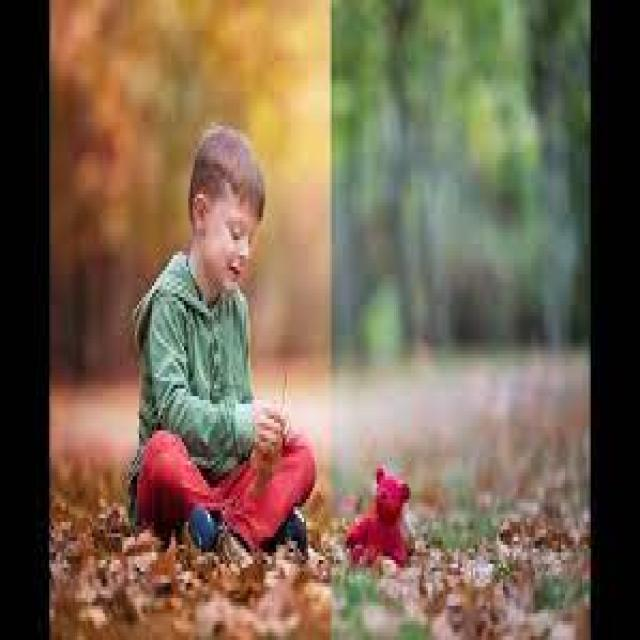Edited images: (118, 108, 319, 550)
